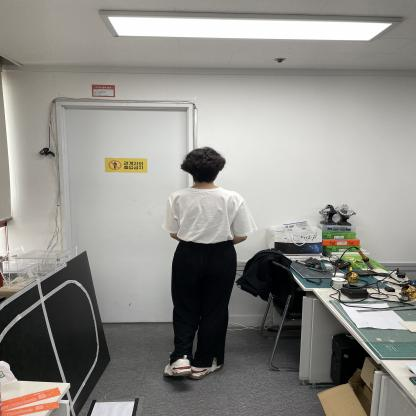normal: (167, 138, 250, 374)
